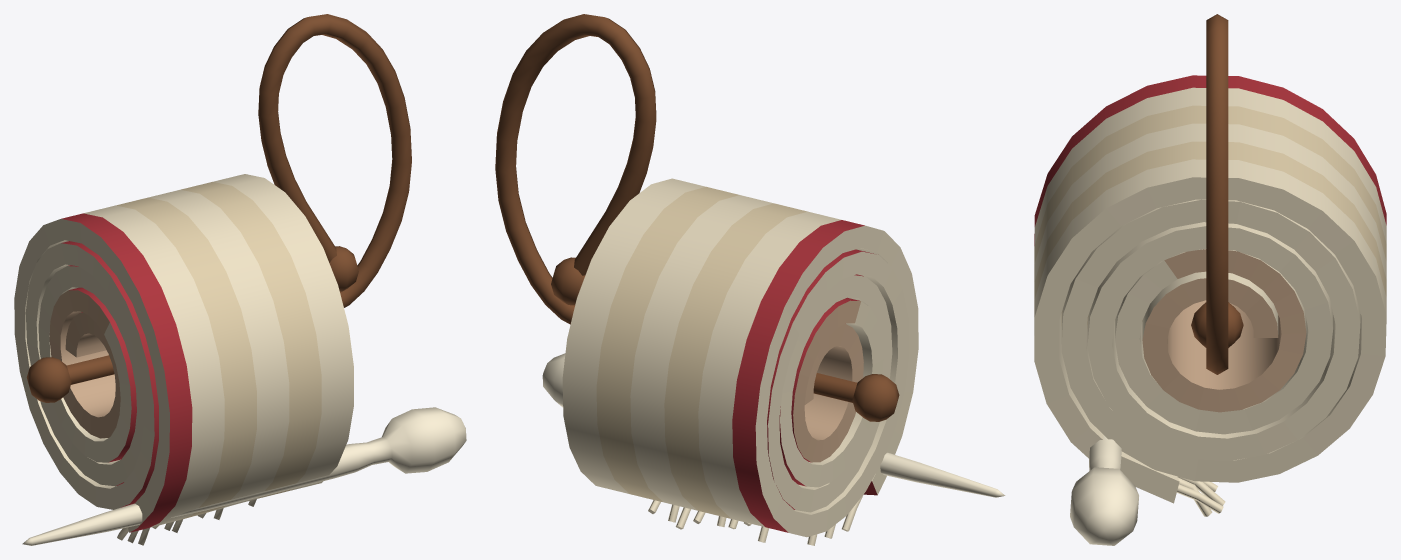
The model's file is tool_bandageroll.fbx.
The picture shows the model from 3 angles, left to right: view 1: azimuth 30°, elevation 25°; view 2: azimuth 150°, elevation 25°; view 3: azimuth 270°, elevation 25°; orthographic projection. The views are drawn at different scales.
Parts seen in each view (by area): view 1: Tool_BandageRoll_Roll, Tool_BandageRoll_Cord, Tool_BandageRoll_Pin, Tool_BandageRoll_Fringe; view 2: Tool_BandageRoll_Roll, Tool_BandageRoll_Cord, Tool_BandageRoll_Pin, Tool_BandageRoll_Fringe; view 3: Tool_BandageRoll_Roll, Tool_BandageRoll_Cord, Tool_BandageRoll_Pin, Tool_BandageRoll_Fringe.
Part boxes in pixels (box(x1,y1,x2,y2)): Tool_BandageRoll_Roll: box(14, 174, 353, 532); Tool_BandageRoll_Cord: box(26, 14, 411, 402); Tool_BandageRoll_Pin: box(22, 407, 466, 545); Tool_BandageRoll_Fringe: box(117, 499, 256, 545); Tool_BandageRoll_Roll: box(562, 178, 918, 537); Tool_BandageRoll_Cord: box(495, 14, 899, 421); Tool_BandageRoll_Pin: box(542, 353, 1005, 497); Tool_BandageRoll_Fringe: box(648, 494, 863, 545); Tool_BandageRoll_Roll: box(1034, 75, 1386, 503); Tool_BandageRoll_Cord: box(1191, 14, 1243, 374); Tool_BandageRoll_Pin: box(1070, 435, 1138, 545); Tool_BandageRoll_Fringe: box(1177, 476, 1225, 516).
Bounding box in the file's own units: 15.85 × 16.24 × 9.64.
